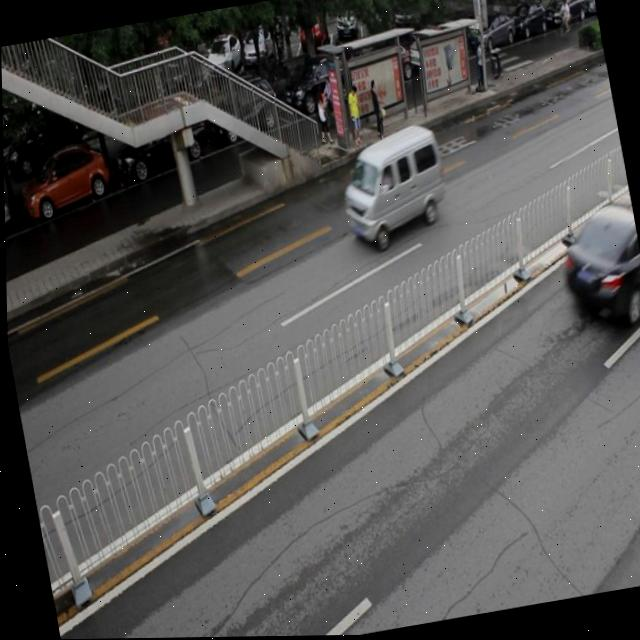car: (551, 197, 640, 336), (15, 143, 113, 222), (111, 117, 210, 181), (202, 79, 284, 146), (278, 54, 358, 120), (3, 176, 13, 240)
truck: (330, 124, 453, 253)
